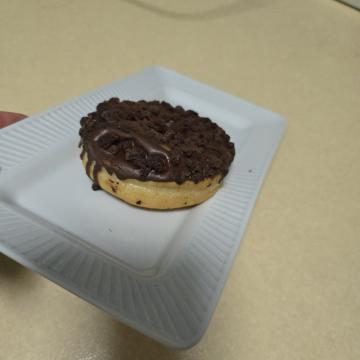doughnut: (86, 118, 226, 296)
